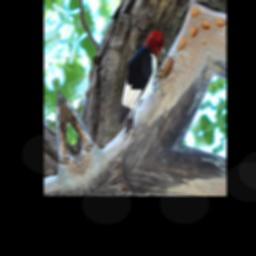Woodpecker: (99, 28, 186, 144)
